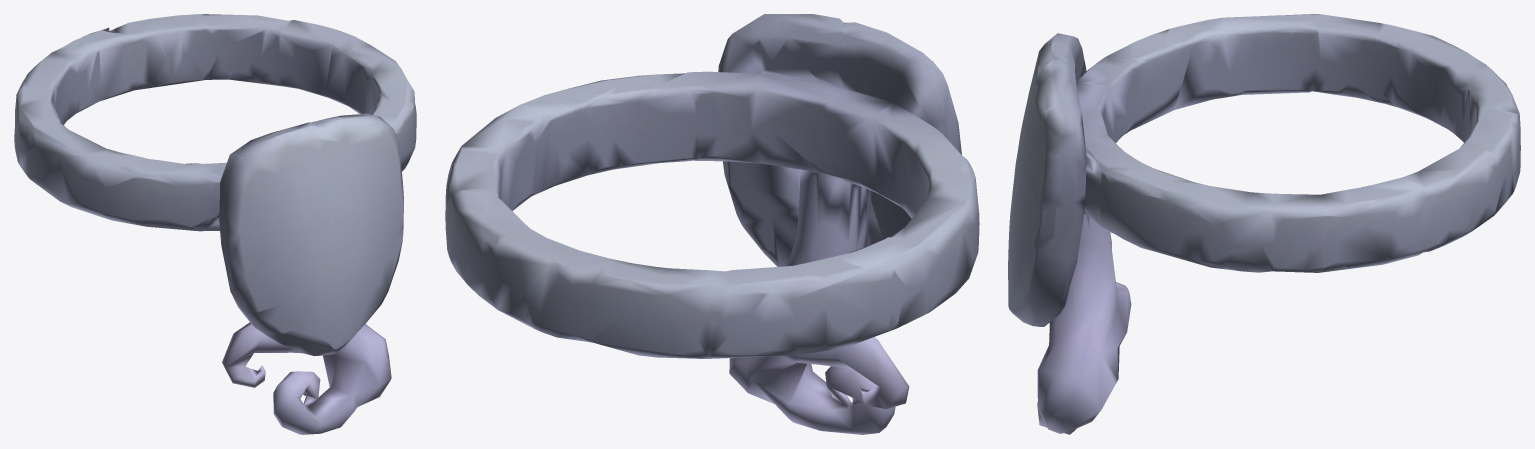
Rendered from hat_faceless-B6oNHmKe.glb.
3 views of the same model, side by side, from view 1: azimuth 30°, elevation 25°; view 2: azimuth 150°, elevation 25°; view 3: azimuth 270°, elevation 25° (orthographic). The views are drawn at different scales.
Visible parts, largest first — view 1: tripo_node_354903e9-d5e3-4468-b183-63130d52a3d0; view 2: tripo_node_354903e9-d5e3-4468-b183-63130d52a3d0; view 3: tripo_node_354903e9-d5e3-4468-b183-63130d52a3d0.
Boxes of the visible parts, bbox=[...] form: tripo_node_354903e9-d5e3-4468-b183-63130d52a3d0: bbox=[14, 14, 416, 434]; tripo_node_354903e9-d5e3-4468-b183-63130d52a3d0: bbox=[445, 14, 979, 434]; tripo_node_354903e9-d5e3-4468-b183-63130d52a3d0: bbox=[1008, 14, 1520, 434].
Size of the model in its own units: 0.9295 by 0.7783 by 1.
Materials: 1 (1 with a texture image).
